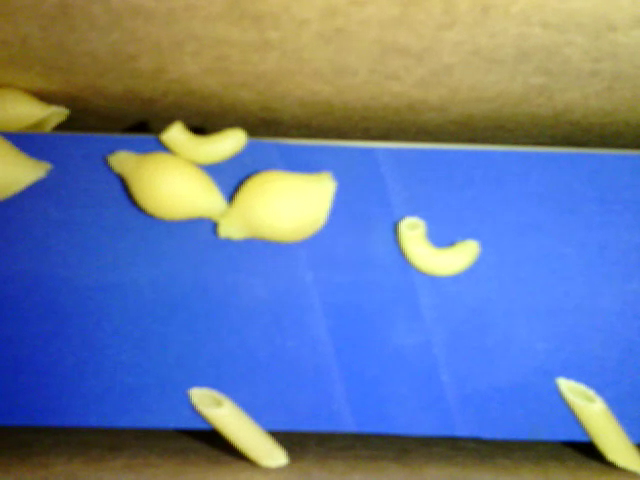elbow: (396, 210, 480, 279), (157, 115, 249, 165)
penne: (185, 383, 292, 469), (554, 370, 639, 473)
shell: (212, 163, 349, 249), (105, 149, 236, 227), (1, 136, 55, 204), (3, 82, 74, 131)
